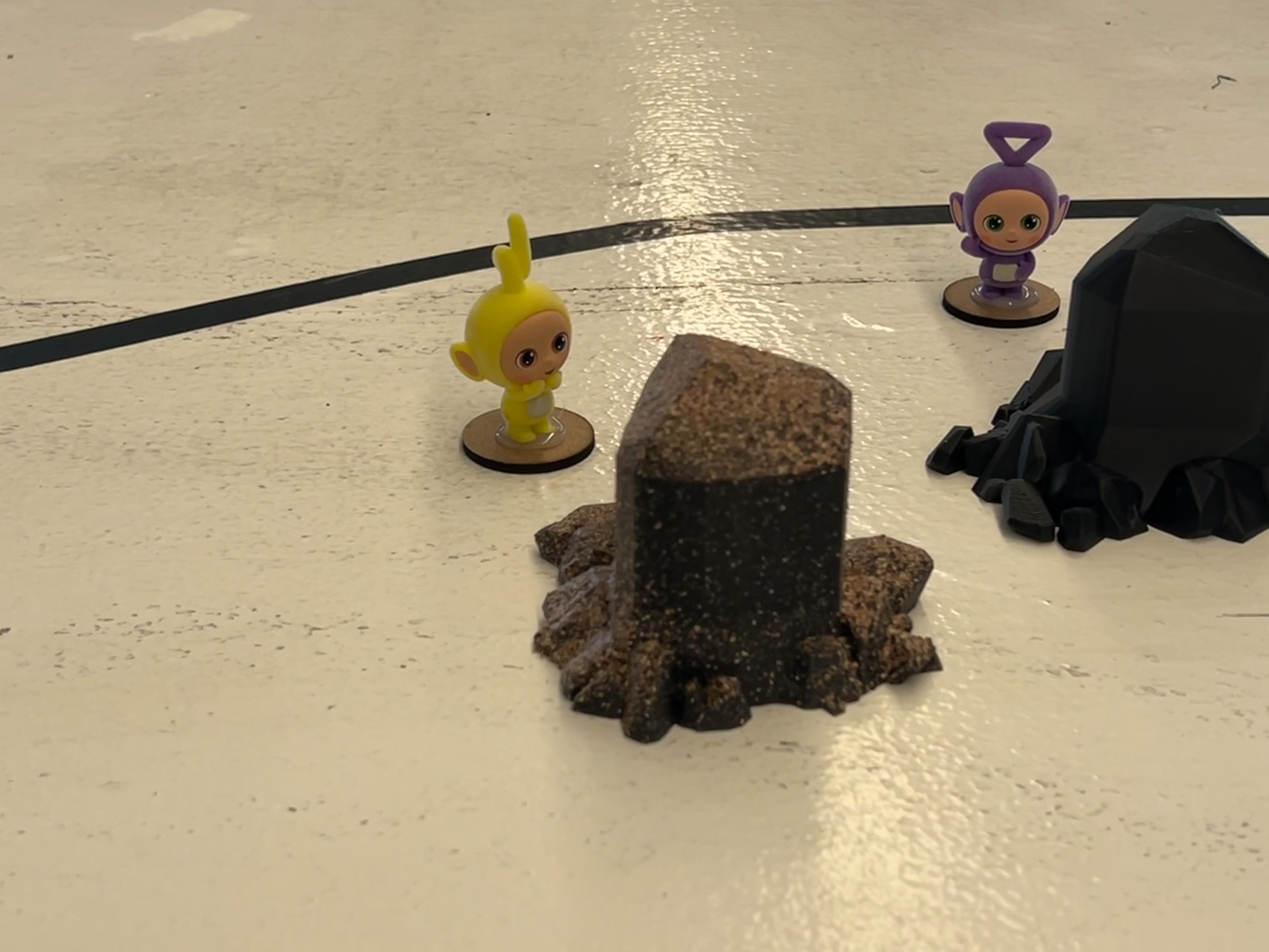teletubby: (449, 212, 573, 443), (948, 121, 1069, 300)
